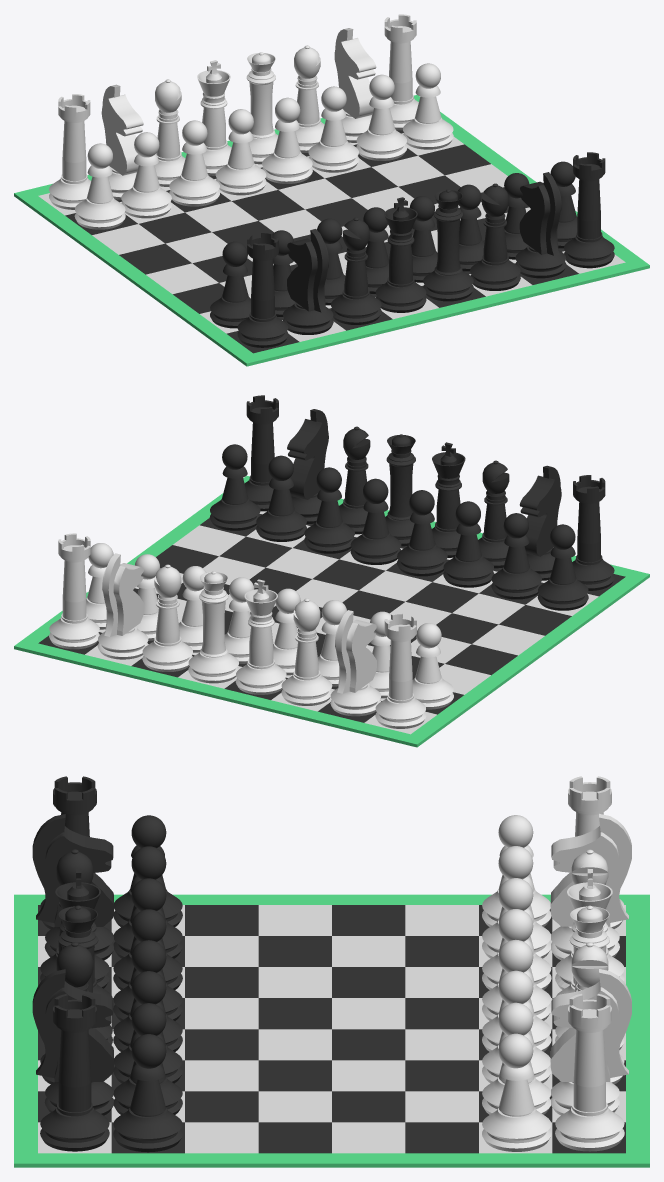
File: chessboard.glb
3 renders of one model, top to bottom at view 1: azimuth 30°, elevation 25°; view 2: azimuth 150°, elevation 25°; view 3: azimuth 270°, elevation 25°, orthographic. The views are drawn at different scales.
Parts seen in each view (by area): view 1: Board, Horse.003, Horse.002, Tower.003, Tower.002, King.001, Queen.001, Tower.001, Horse, Bishop.002, Bishop.003, Horse.001 (+21 smaller); view 2: Board, Horse, Horse.001, Tower, Tower.001, King, Queen, Tower.002, Horse.003, Bishop.001, Bishop, Horse.002 (+21 smaller); view 3: Board, Tower.003, Tower, Horse.001, Horse.002, Horse, Horse.003, Pawn.015, Pawn, Pawn.014, Pawn.001, Pawn.006 (+21 smaller).
Boxes of the visible parts, x1,y1,x2,y2 form: Board: (14,95,649,366); Horse.003: (515,172,566,278); Horse.002: (283,229,333,334); Tower.003: (564,152,614,268); Tower.002: (237,232,288,347); King.001: (375,197,426,312); Queen.001: (423,189,473,301); Tower.001: (49,94,90,209); Horse: (334,28,376,142); Bishop.002: (331,217,381,324); Bishop.003: (470,183,520,290); Horse.001: (101,84,143,199); Board: (14,476,649,747); Horse: (97,553,148,659); Horse.001: (330,610,381,716); Tower: (49,533,99,649); Tower.001: (375,613,426,728); King: (235,579,286,694); Queen: (188,571,238,683); Tower.002: (572,475,614,590); Horse.003: (287,409,328,523); Bishop.001: (281,598,332,705); Bishop: (142,564,192,671); Horse.002: (519,465,561,580); Board: (14,894,649,1167); Tower.003: (40,994,109,1151); Tower: (555,993,624,1151); Horse.001: (550,813,631,960); Horse.002: (32,814,113,960); Horse: (550,969,631,1115); Horse.003: (32,969,113,1115); Pawn.015: (113,1034,182,1152); Pawn: (482,1033,551,1151); Pawn.014: (113,1003,182,1114); Pawn.001: (482,1002,550,1114); Pawn.006: (482,846,550,958).
Size of the model in its own units: 27.6 by 7.02 by 27.6.
